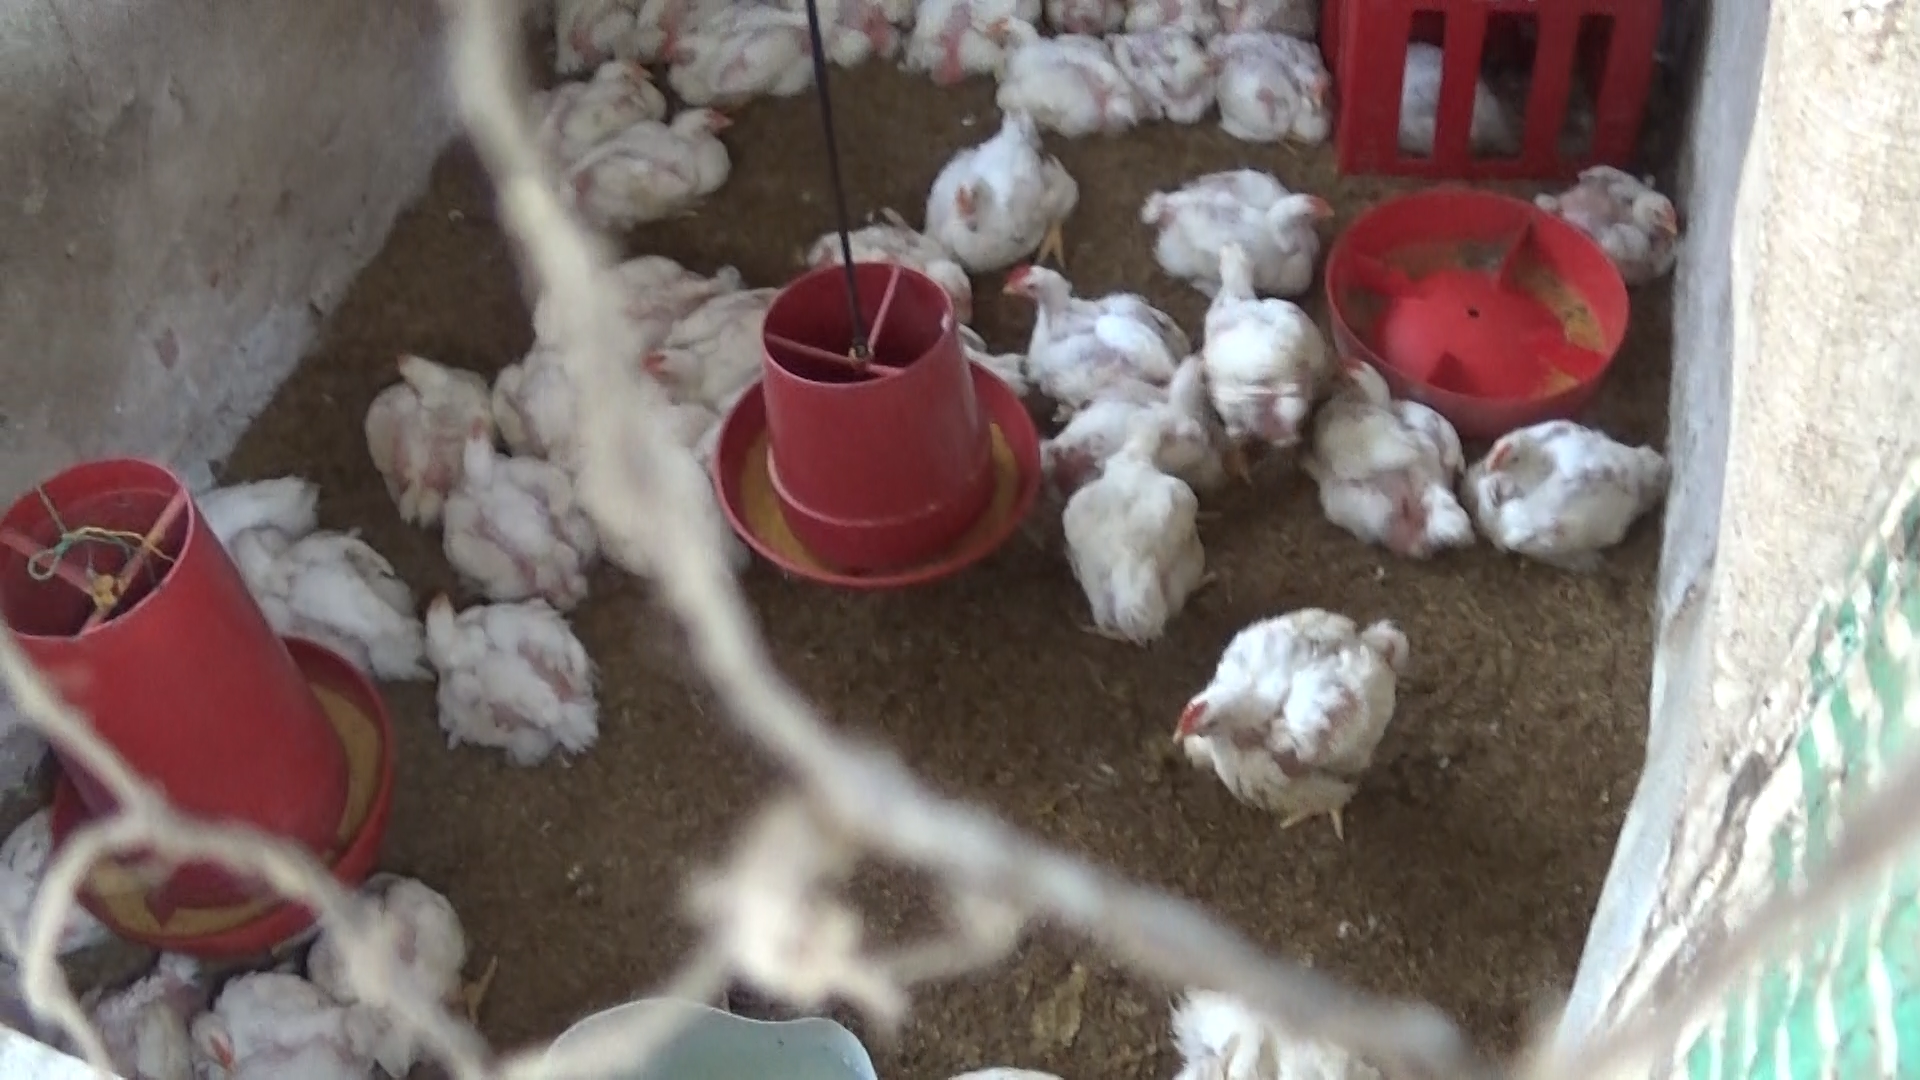Pollos: (1151, 603, 1429, 866), (1056, 396, 1216, 658), (227, 522, 454, 692), (1296, 343, 1477, 554), (1182, 228, 1342, 458), (429, 406, 596, 618), (413, 574, 607, 757), (1468, 409, 1677, 567), (324, 864, 480, 1069), (1025, 336, 1228, 487), (1137, 160, 1341, 305), (349, 336, 502, 520), (1000, 262, 1191, 409), (553, 92, 748, 228), (934, 105, 1077, 262), (182, 953, 372, 1072), (1528, 144, 1685, 282), (984, 7, 1139, 137), (637, 284, 789, 413), (517, 58, 673, 166), (822, 214, 982, 318), (1201, 28, 1332, 142), (647, 20, 825, 98), (1104, 18, 1218, 125), (898, 0, 1011, 80)
